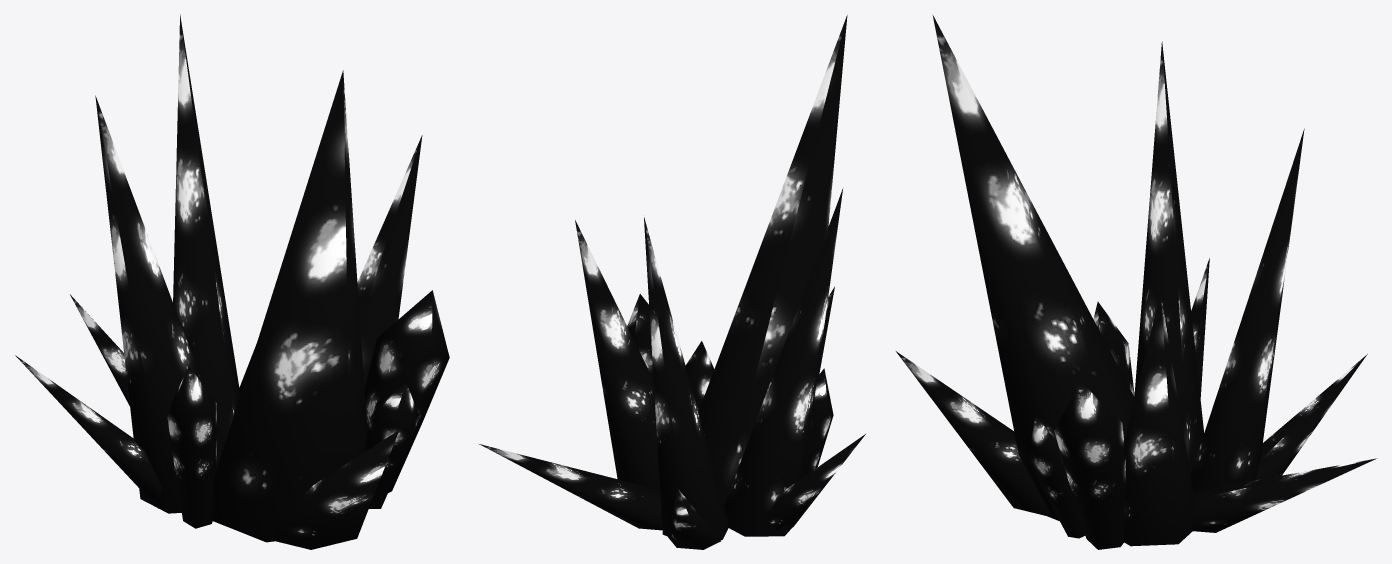
Rendered from 0227_bingci_M.glb.
3 renders of one model, left to right at view 1: azimuth 30°, elevation 25°; view 2: azimuth 150°, elevation 25°; view 3: azimuth 270°, elevation 25°, orthographic. The views are drawn at different scales.
Size of the model in its own units: 1.68 by 2.2 by 2.03.
Materials: 1 (1 with a texture image).
